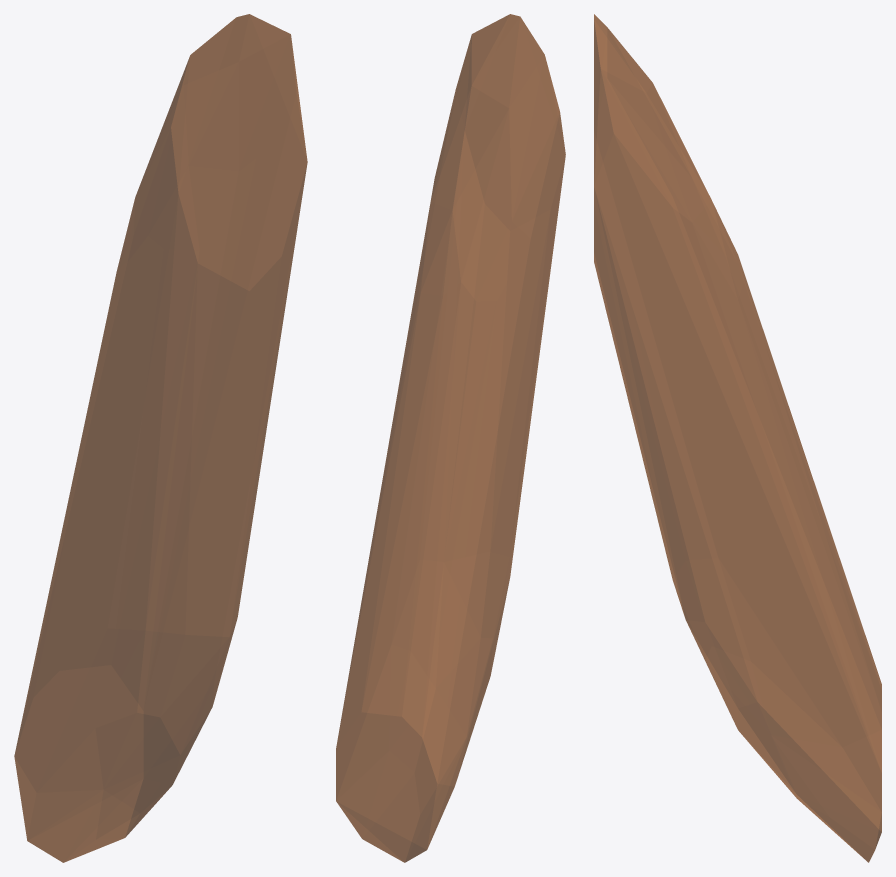
The picture shows the model from 3 angles, left to right: view 1: azimuth 30°, elevation 25°; view 2: azimuth 150°, elevation 25°; view 3: azimuth 270°, elevation 25°; orthographic projection. The views are drawn at different scales.
Parts seen in each view (by area): view 1: Shape_IndexedFaceSet.005_Shape_IndexedFaceSet.10640; view 2: Shape_IndexedFaceSet.005_Shape_IndexedFaceSet.10640; view 3: Shape_IndexedFaceSet.005_Shape_IndexedFaceSet.10640.
Boxes of the visible parts, <box> form: Shape_IndexedFaceSet.005_Shape_IndexedFaceSet.10640: <box>14,14,307,862</box>; Shape_IndexedFaceSet.005_Shape_IndexedFaceSet.10640: <box>336,14,565,862</box>; Shape_IndexedFaceSet.005_Shape_IndexedFaceSet.10640: <box>594,14,881,862</box>.
Bounding box in the file's own units: 0.0496 × 0.3523 × 0.1092.
